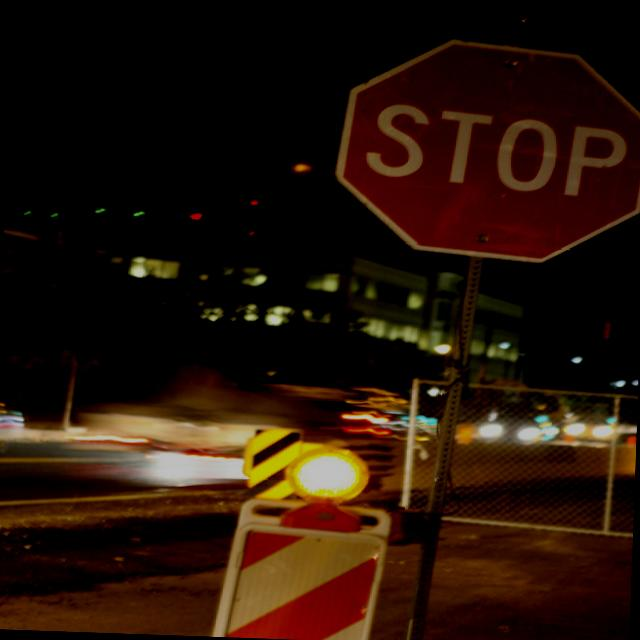Vehicle: (474, 389, 568, 445), (568, 406, 637, 446)
